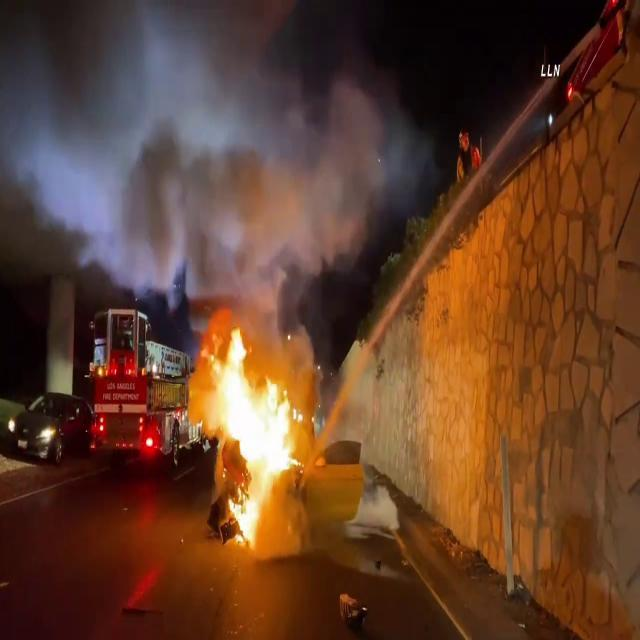Fire: (194, 320, 308, 545)
Smoke: (106, 0, 434, 302)
